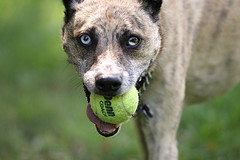tennis ball: (90, 81, 141, 125)
